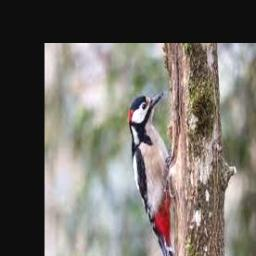Woodpecker: (129, 91, 176, 256)
